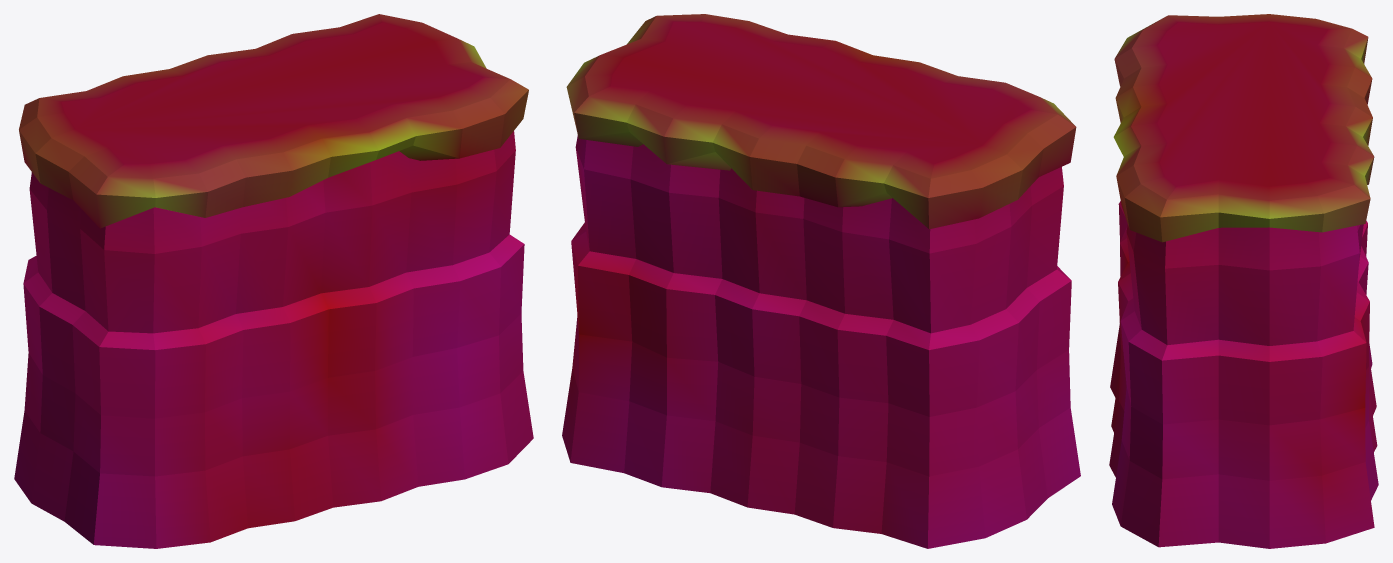
Rendered from Cliff_Module_B.glb.
3 views of the same model, side by side, from view 1: azimuth 30°, elevation 25°; view 2: azimuth 150°, elevation 25°; view 3: azimuth 270°, elevation 25° (orthographic). The views are drawn at different scales.
Parts seen in each view (by area): view 1: Cliff_Module_B; view 2: Cliff_Module_B; view 3: Cliff_Module_B.
Part boxes in pixels (x1,y1,x2,y2): Cliff_Module_B: (14,14,533,548); Cliff_Module_B: (562,14,1080,548); Cliff_Module_B: (1109,14,1378,548).
Bounding box in the file's own units: 4.46 × 3.47 × 2.48.
